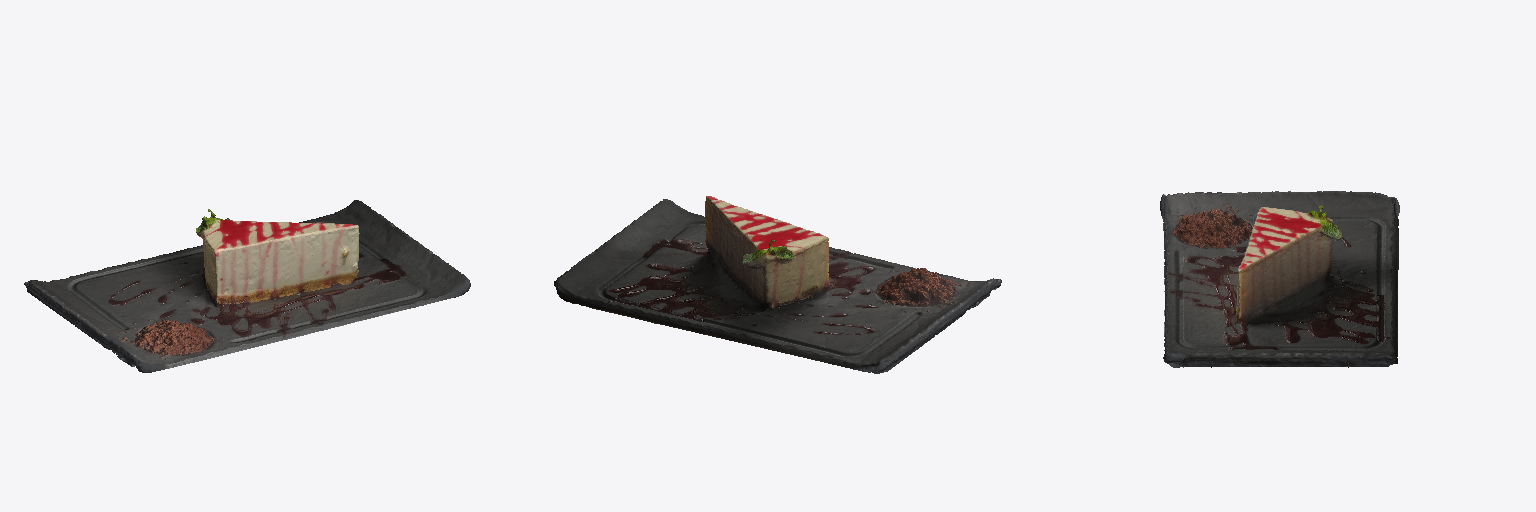
3 renders of one model, left to right at view 1: azimuth 30°, elevation 25°; view 2: azimuth 150°, elevation 25°; view 3: azimuth 270°, elevation 25°, orthographic.
Visible parts, largest first — view 1: mmGroup0; view 2: mmGroup0; view 3: mmGroup0.
Part boxes in pixels (x1,y1,x2,y2): mmGroup0: (24, 200, 470, 372); mmGroup0: (554, 196, 1001, 373); mmGroup0: (1160, 191, 1399, 367).
Bounding box in the file's own units: 0.2501 × 0.0511 × 0.1473.
1 materials, 1 textured.